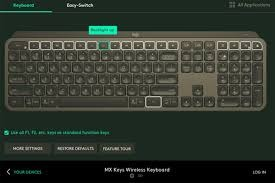keyboard: (0, 28, 270, 127)
